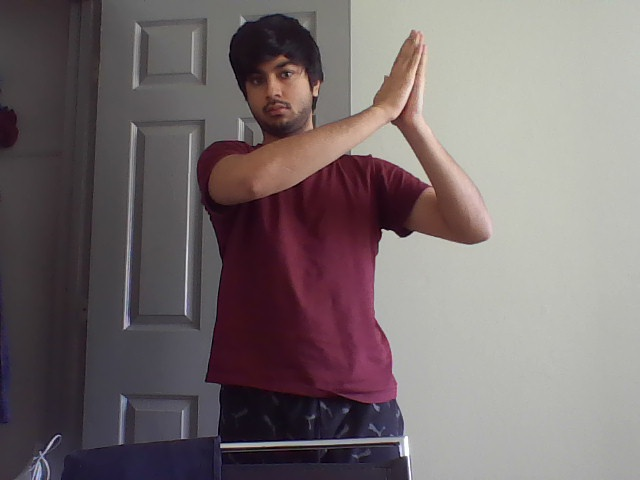start: (372, 23, 434, 138)
